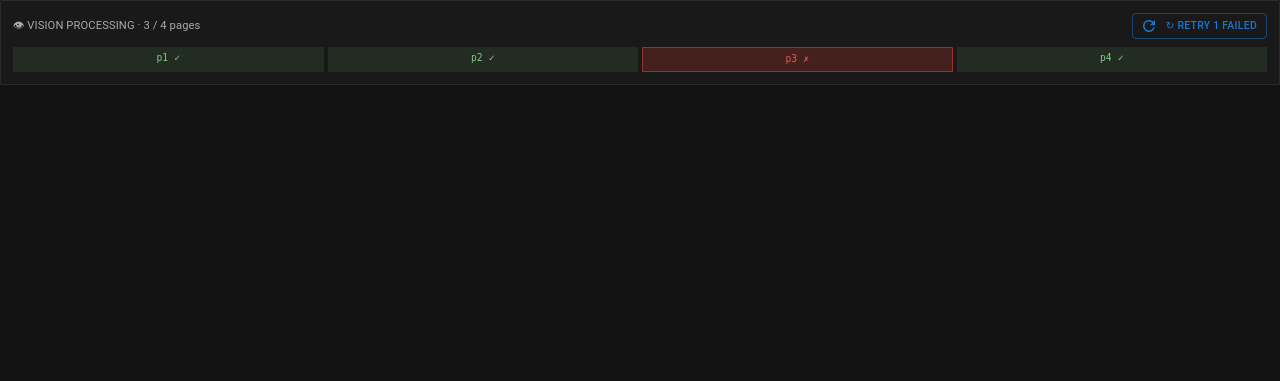
VisionPagesGrid › clicking a cell shows detail panel with status + error
Click the text with test id "vision-cell-v3". click: (797, 59)
box: [642, 47, 952, 72]
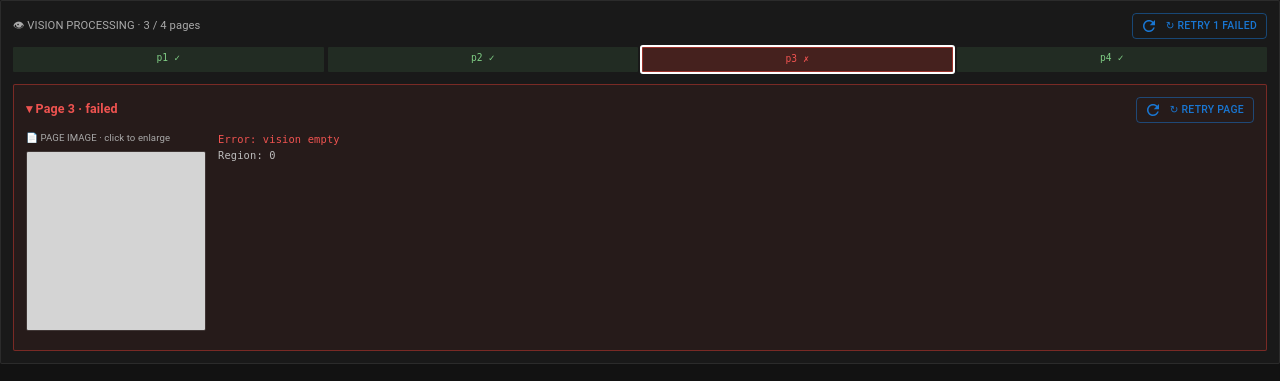
Expected: the element with test id "vision-detail-panel" is shown
Expected: the text "Error: vision empty" is shown, [218, 133, 340, 145]
